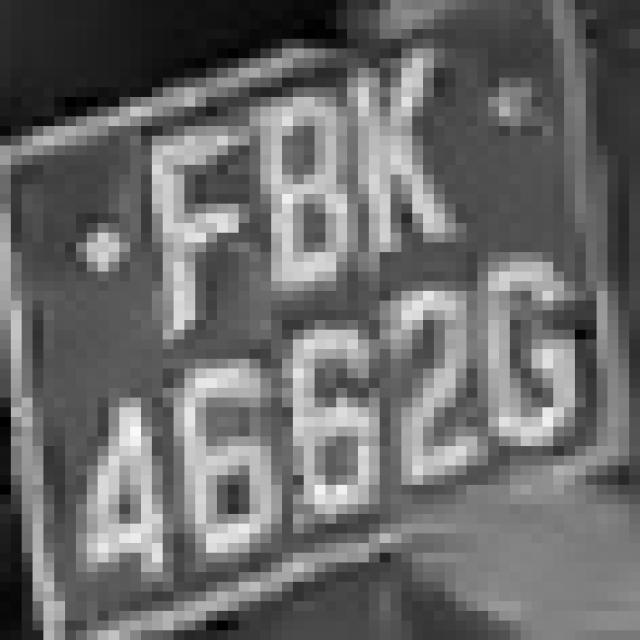2: (380, 252, 477, 524)
4: (22, 388, 184, 591)
6: (228, 310, 390, 543), (130, 349, 293, 563)
B: (217, 78, 369, 320)
F: (109, 97, 271, 349)
G: (456, 233, 596, 465)
K: (293, 49, 488, 281)
